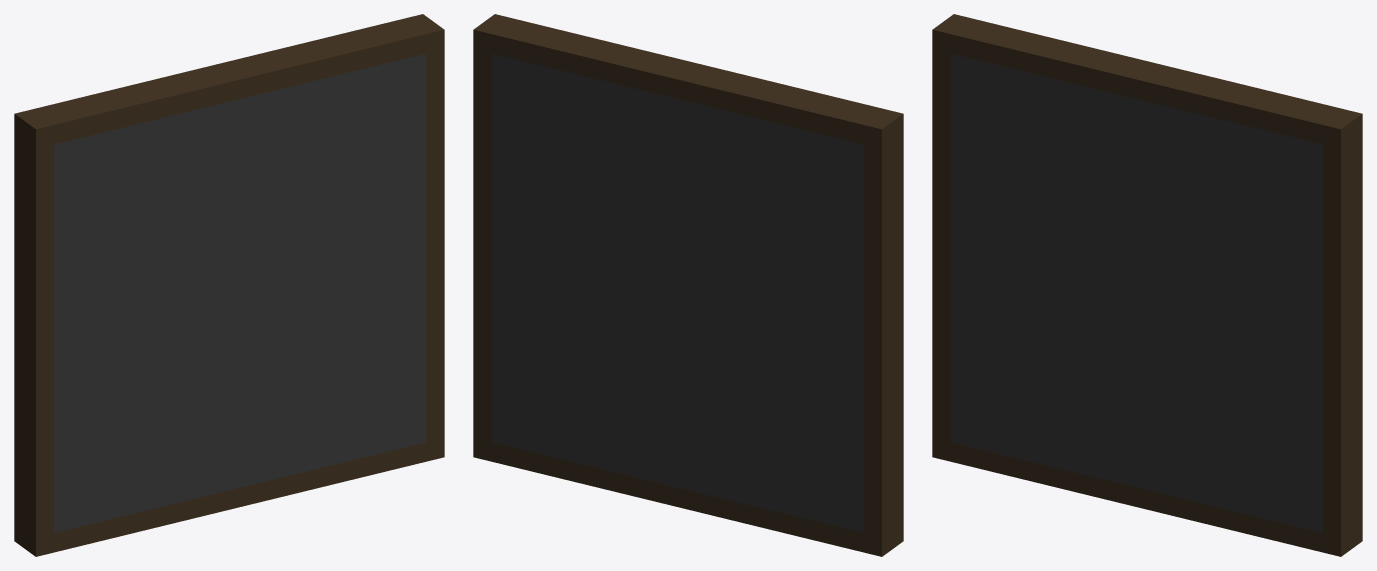
The model's file is Poster.fbx.
3 views of the same model, side by side, from view 1: azimuth 30°, elevation 25°; view 2: azimuth 150°, elevation 25°; view 3: azimuth 330°, elevation 25° (orthographic).
Parts seen in each view (by area): view 1: Cube; view 2: Cube; view 3: Cube.
Part boxes in pixels (x1,y1,x2,y2): Cube: (14,14,444,556); Cube: (473,14,903,556); Cube: (932,14,1362,556).
Bounding box in the file's own units: 880 × 880 × 80.
